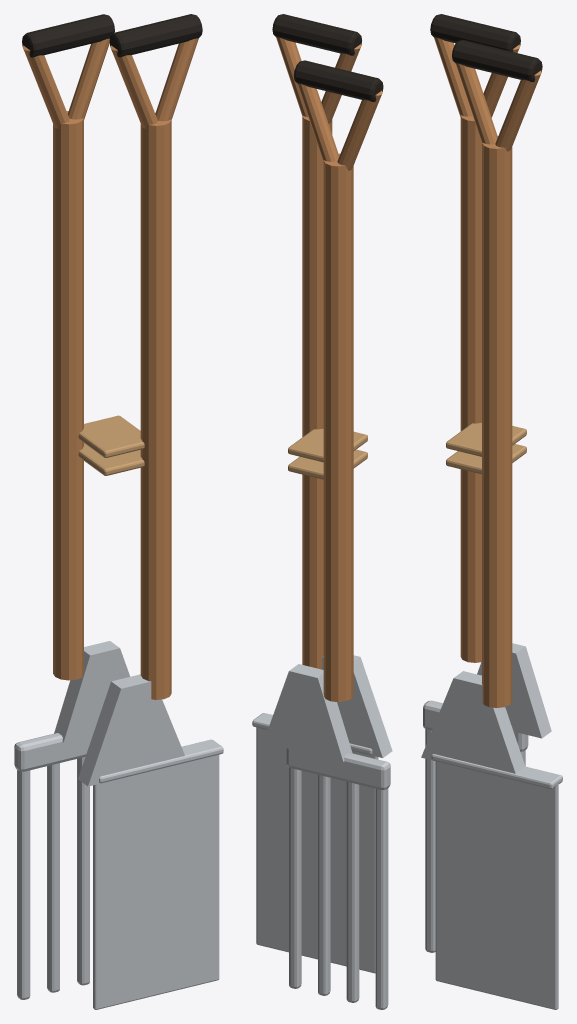
The model's file is hh_cat_spades.glb.
3 renders of one model, left to right at view 1: azimuth 30°, elevation 25°; view 2: azimuth 150°, elevation 25°; view 3: azimuth 330°, elevation 25°, orthographic. The views are drawn at different scales.
Visible parts, largest first — view 1: blade, shaft, shaft.001, socket, socket.001, tine, tine.001, tine.002, grip, grip.001, fork_bar, twine.001 (+6 smaller); view 2: shaft.001, blade, shaft, socket.001, tine, tine.001, tine.003, tine.002, socket, fork_bar, grip, grip.001 (+7 smaller); view 3: blade, shaft, shaft.001, socket, socket.001, grip, tine, grip.001, d_handle, tread, d_handle.001, d_handle.002 (+4 smaller).
Boxes of the visible parts, <box> form: blade: <box>93,754,219,1009</box>; shaft: <box>140,112,171,699</box>; shaft.001: <box>53,111,83,680</box>; socket: <box>78,674,184,786</box>; socket.001: <box>54,641,129,742</box>; tine: <box>17,770,30,999</box>; tine.001: <box>47,763,59,992</box>; tine.002: <box>77,757,89,985</box>; grip: <box>109,14,202,57</box>; grip.001: <box>22,14,114,57</box>; fork_bar: <box>14,733,92,771</box>; twine.001: <box>78,415,144,457</box>; shaft.001: <box>323,153,353,702</box>; blade: <box>256,727,378,973</box>; shaft: <box>302,115,332,669</box>; socket.001: <box>263,664,352,761</box>; tine: <box>375,788,388,1009</box>; tine.001: <box>346,782,359,1002</box>; tine.003: <box>289,767,301,988</box>; tine.002: <box>318,774,330,995</box>; socket: <box>322,655,392,757</box>; fork_bar: <box>286,748,390,790</box>; grip: <box>272,14,361,55</box>; grip.001: <box>294,60,383,101</box>; blade: <box>435,761,558,1009</box>; shaft: <box>482,136,512,707</box>; shaft.001: <box>460,115,481,662</box>; socket: <box>421,671,525,773</box>; socket.001: <box>477,643,551,738</box>; grip: <box>452,40,542,82</box>; tine: <box>425,729,435,952</box>; grip.001: <box>430,14,520,51</box>; d_handle: <box>456,63,497,144</box>; tread: <box>431,754,562,789</box>; d_handle.001: <box>495,70,541,151</box>; d_handle.002: <box>434,37,472,116</box>.
Size of the model in its own units: 0.2 by 1.1 by 0.1.
